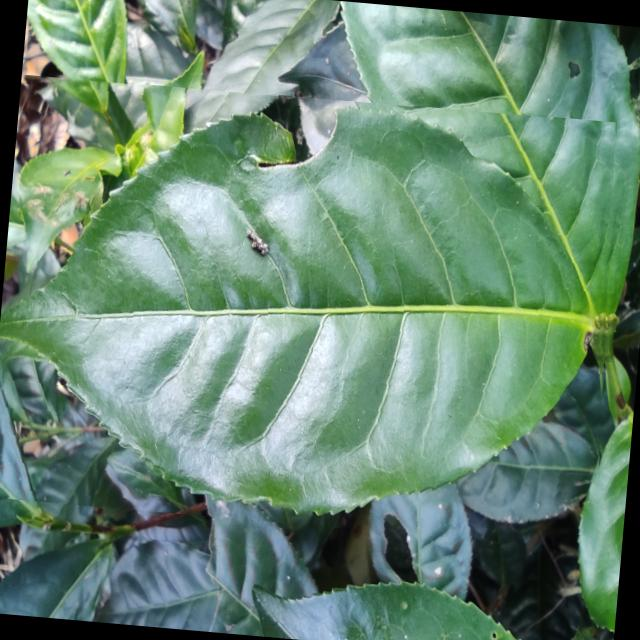Category D(7+ days, Not for Tea): (0, 70, 630, 550)
